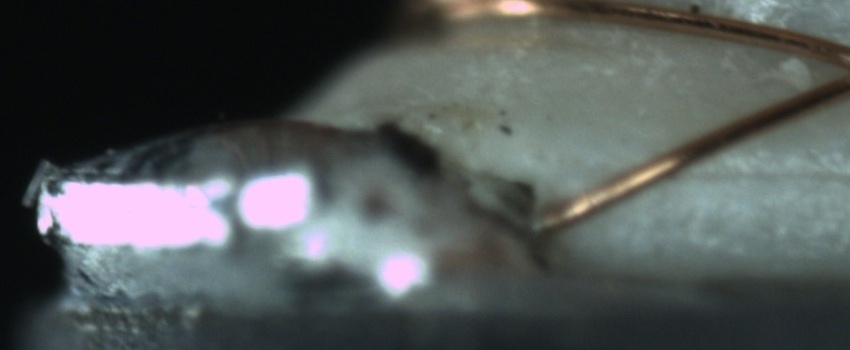DL: (675, 139, 850, 205)
